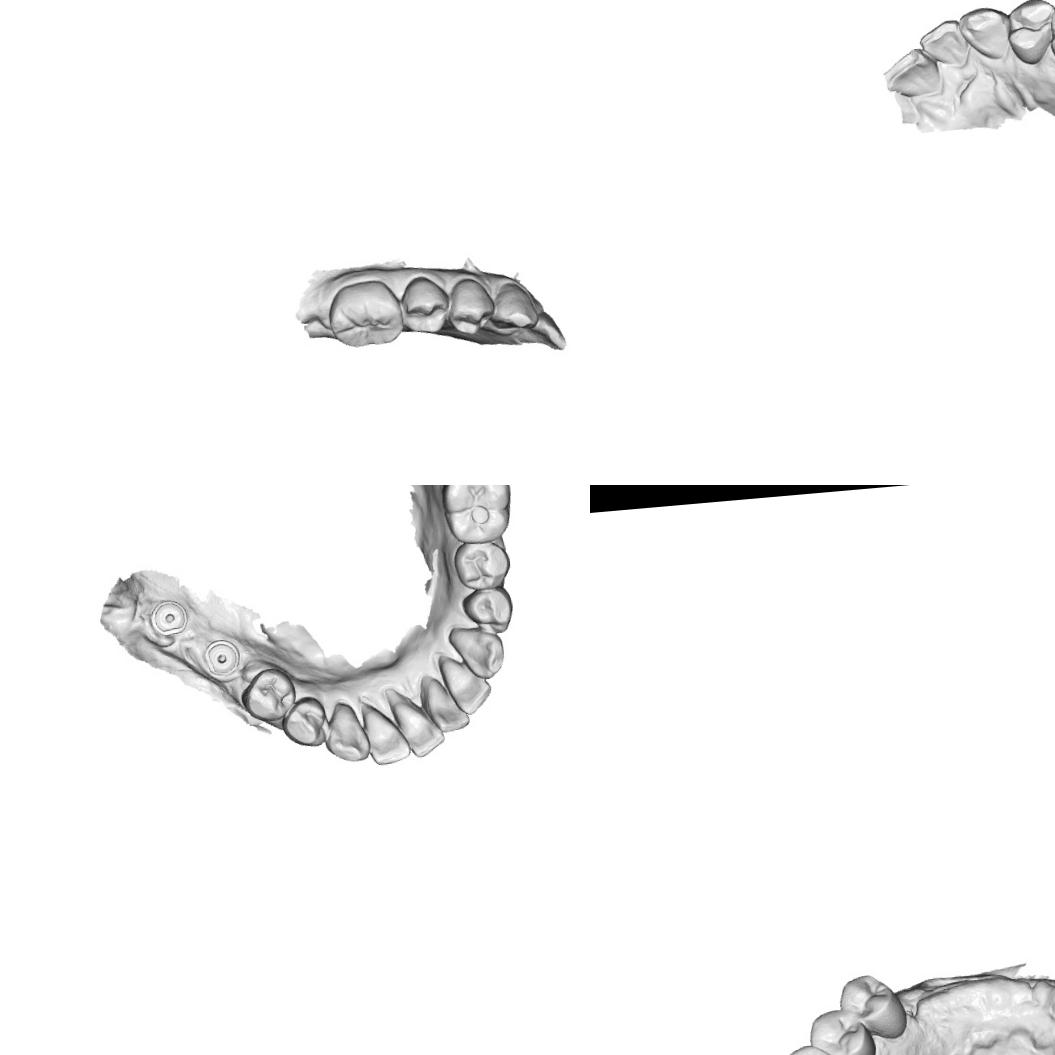canine: (445, 622, 508, 684), (490, 268, 547, 336), (956, 1, 1015, 64), (321, 700, 372, 768)
implant: (146, 591, 196, 644), (197, 631, 244, 685)
incisor: (386, 684, 449, 763), (418, 670, 473, 738), (880, 44, 944, 102), (360, 697, 412, 767), (438, 651, 492, 718), (916, 16, 973, 73), (507, 308, 570, 357)
molar: (322, 273, 406, 352), (438, 485, 516, 549)
premolar: (833, 968, 908, 1044), (237, 660, 301, 726), (806, 1001, 879, 1055), (395, 268, 450, 336), (450, 534, 512, 594), (444, 270, 498, 338), (1005, 0, 1055, 69), (278, 690, 332, 753), (457, 584, 517, 634)
